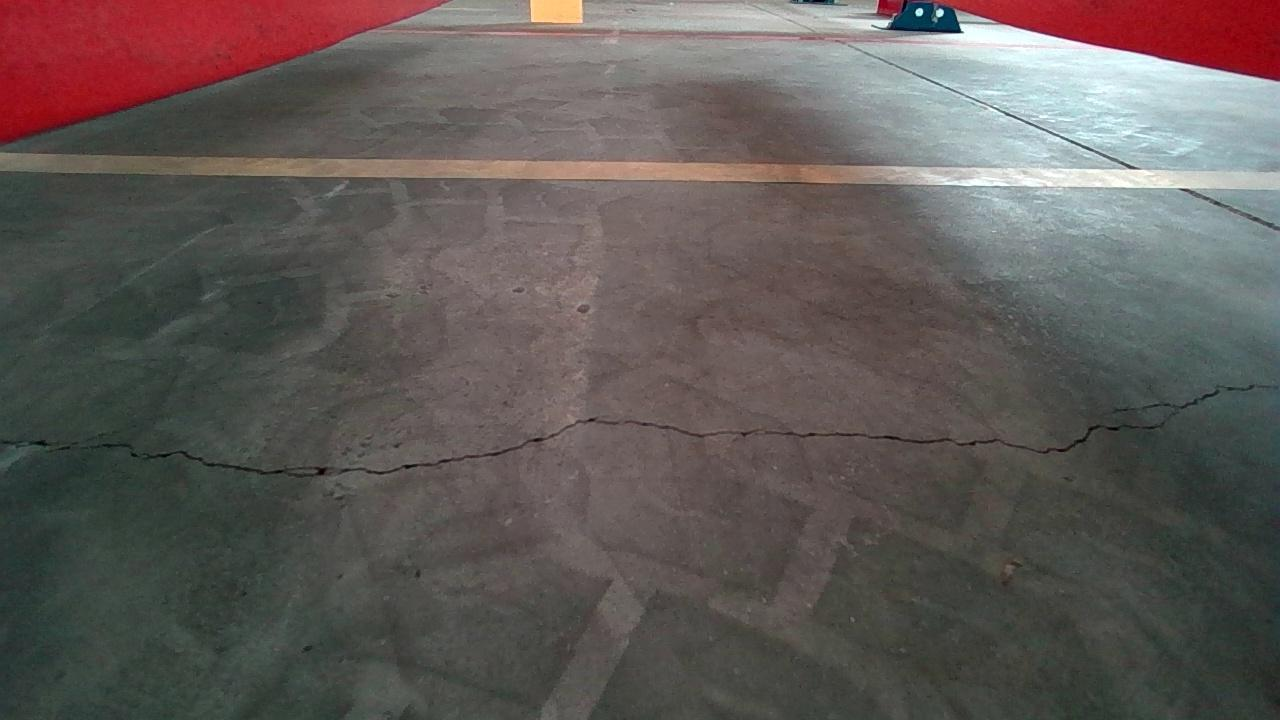orange_strip: (532, 0, 583, 22)
yellow_line: (0, 149, 1280, 192)
